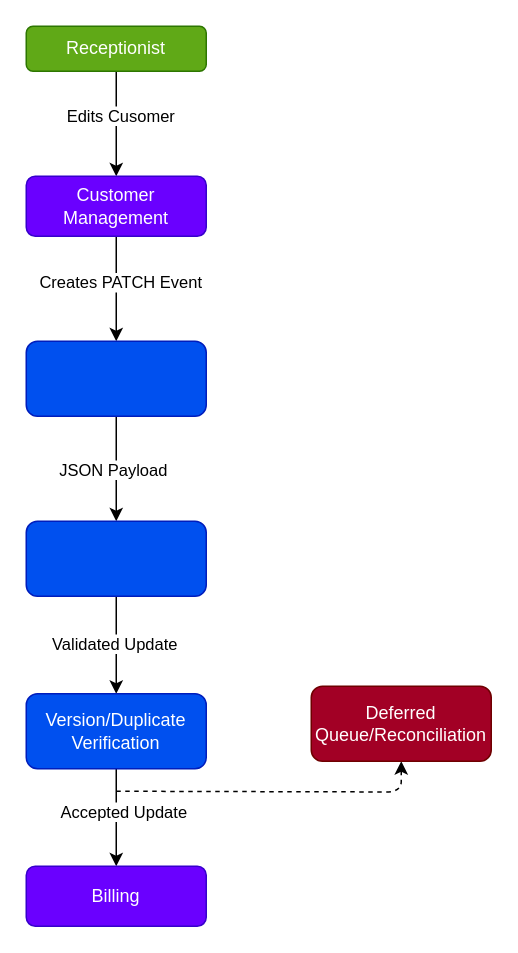
Image size: 518x953. Some labels were removed from this diagram. Here are the shapes that lost their labels. From the top down, the centre of each, then its label:
point 115,378: Customer Update Event
point 115,558: Synchronization Service
